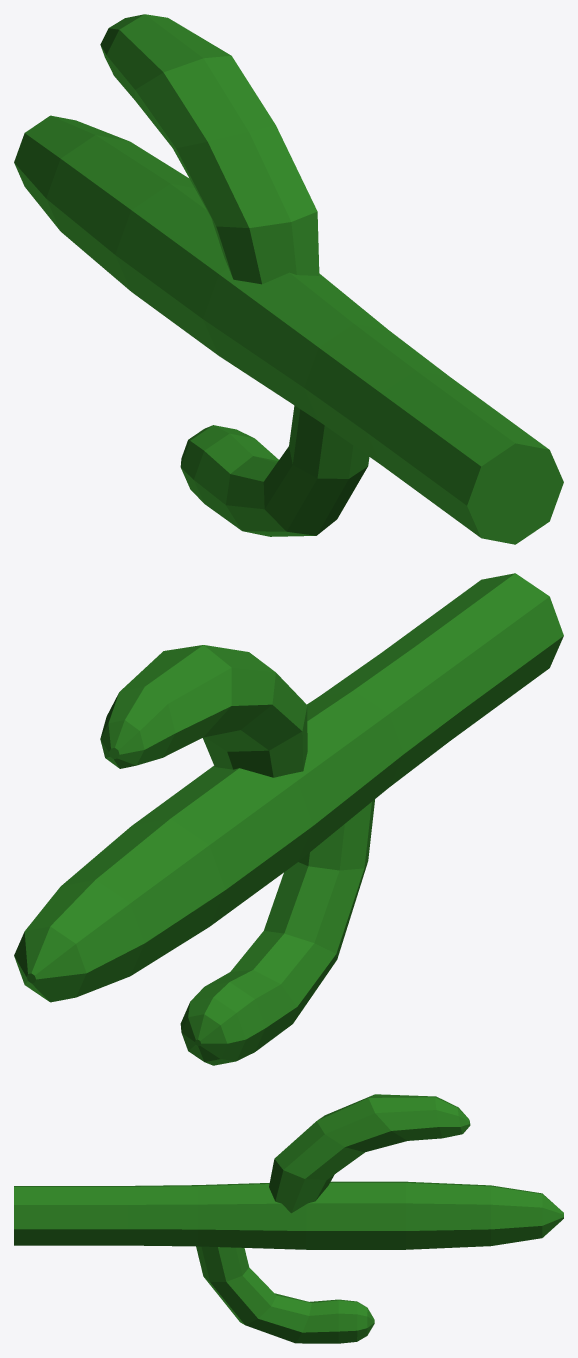
3 renders of one model, top to bottom at view 1: azimuth 30°, elevation 25°; view 2: azimuth 150°, elevation 25°; view 3: azimuth 270°, elevation 25°, orthographic. The views are drawn at different scales.
Visible parts, largest first — view 1: Cylinder; view 2: Cylinder; view 3: Cylinder.
Boxes of the visible parts, bbox=[...] form: Cylinder: bbox=[14, 14, 563, 544]; Cylinder: bbox=[14, 573, 563, 1065]; Cylinder: bbox=[14, 1094, 563, 1343].
Bounding box in the file's own units: 115 × 431 × 875.
